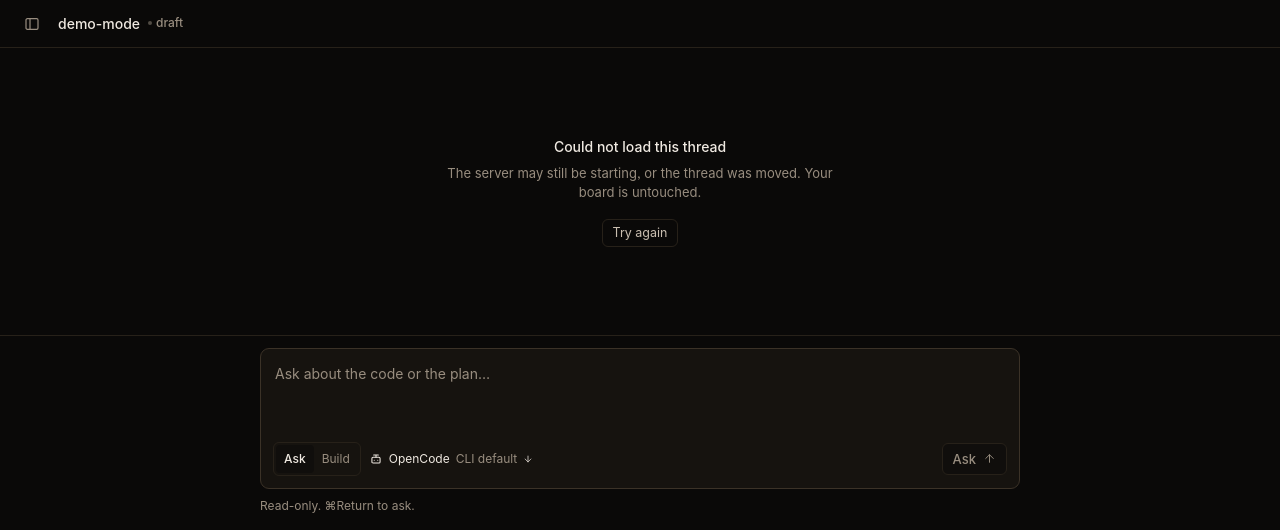
ThreadPane › offers a retry when the thread cannot be loaded
The width and height of the screenshot is (1280, 530).
Expected: the message shows "Could not load this thread", [554,138,726,155]
Click the button "Try again". click: (640, 233)
box: [602,219,678,247]
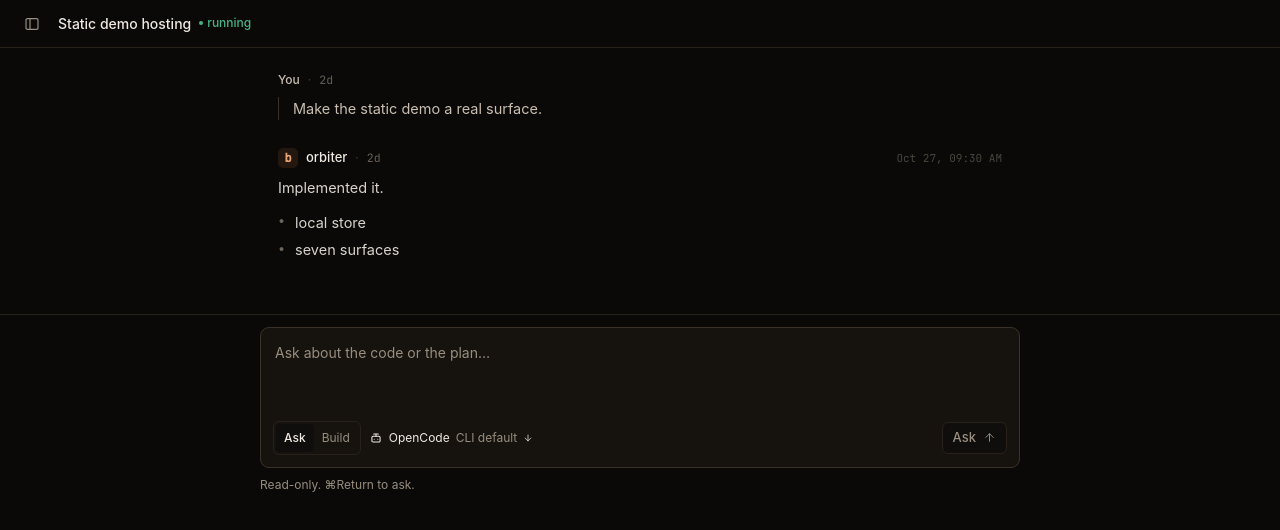
Result: the text "Static demo hosting" is shown at [58,13,191,34]
